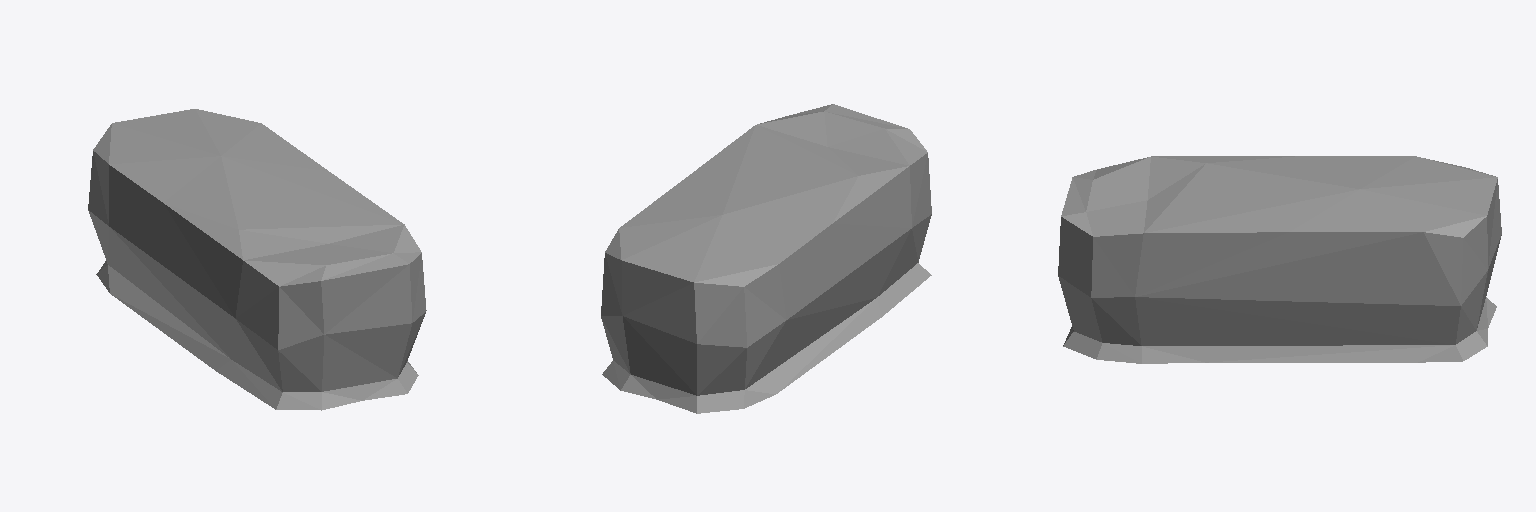
Rendered from Mesh_CavePack_Platform3_lod1.obj.
The picture shows the model from 3 angles: view 1: azimuth 30°, elevation 25°; view 2: azimuth 150°, elevation 25°; view 3: azimuth 270°, elevation 25°; orthographic projection.
Visible parts, largest first — view 1: Circle.002; view 2: Circle.002; view 3: Circle.002.
Part boxes in pixels (x1,y1,x2,y2): Circle.002: (88,109,426,410); Circle.002: (601,104,931,413); Circle.002: (1058,156,1501,363).
Bounding box in the file's own units: 5.98 × 4.79 × 13.9.